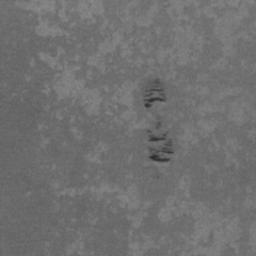Secondary rust skin: (143, 78, 174, 162)
